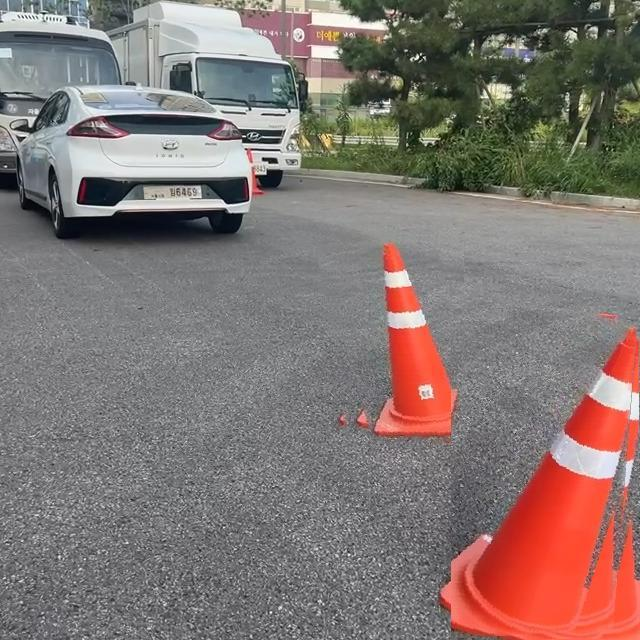fallen_object: (474, 261, 640, 640), (337, 213, 484, 452), (243, 116, 280, 234)
